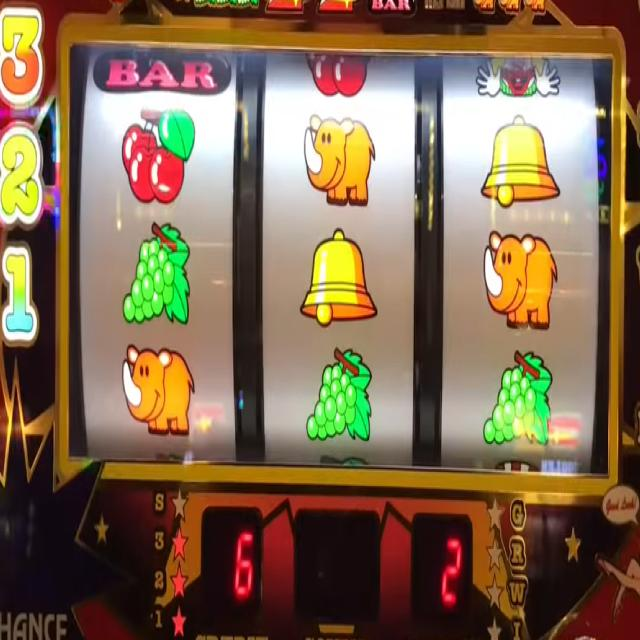bar: (90, 38, 232, 100), (369, 0, 417, 17)
bell: (298, 226, 378, 332), (480, 111, 561, 210)
cherry: (115, 104, 196, 206), (304, 45, 372, 98)
clown: (473, 56, 562, 100)
display: (65, 33, 612, 476)
elephant: (120, 342, 196, 446), (482, 227, 559, 328), (301, 114, 376, 208), (522, 0, 547, 14), (498, 0, 522, 14), (472, 0, 496, 13)
grape: (122, 216, 192, 334), (482, 346, 554, 448), (304, 344, 372, 447), (230, 0, 260, 10), (206, 0, 227, 8), (191, 0, 205, 6)
z: (314, 0, 359, 15), (265, 0, 306, 16)
